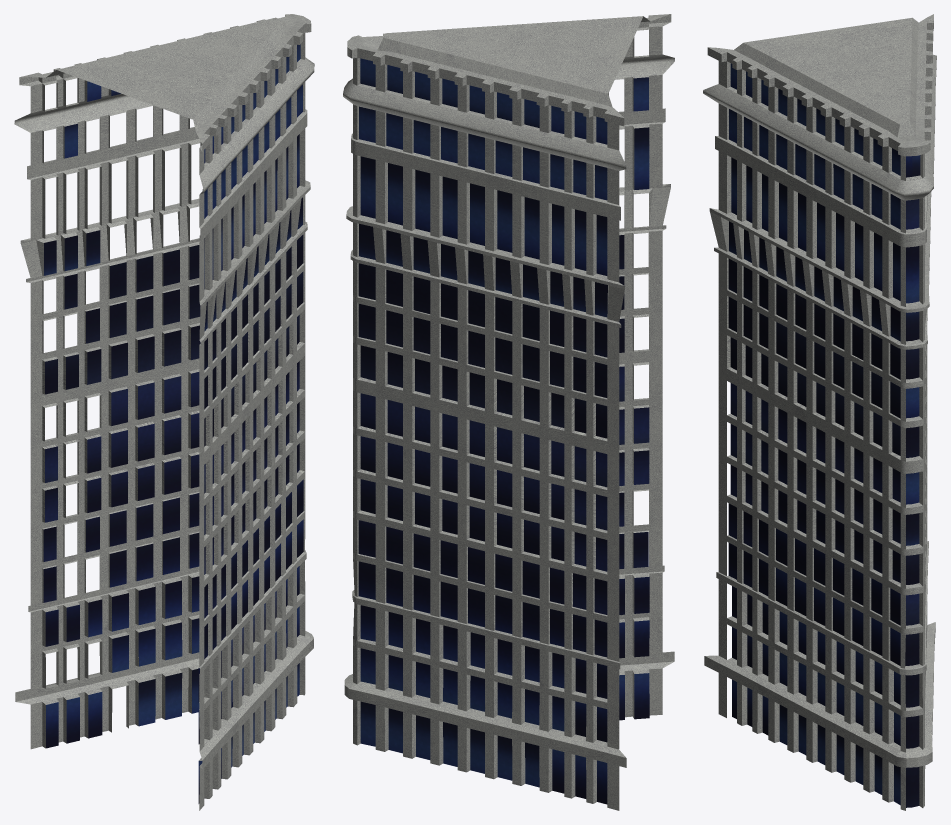
Rendered from New_York_track_landmark07.dae.
The picture shows the model from 3 angles, left to right: view 1: azimuth 30°, elevation 25°; view 2: azimuth 150°, elevation 25°; view 3: azimuth 270°, elevation 25°; orthographic projection. The views are drawn at different scales.
Visible parts, largest first — view 1: New_York_track_landmark07; view 2: New_York_track_landmark07; view 3: New_York_track_landmark07.
Boxes of the visible parts, left/top/right/bottom form: New_York_track_landmark07: left=14, top=14, right=314, bottom=810; New_York_track_landmark07: left=343, top=14, right=674, bottom=810; New_York_track_landmark07: left=703, top=14, right=936, bottom=810.
Size of the model in its own units: 3.64 by 2.62 by 8.34.
2 materials, 2 textured.
